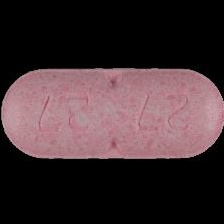61786-445: (0, 0, 224, 224)
